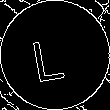L_N: (35, 27, 75, 83)
